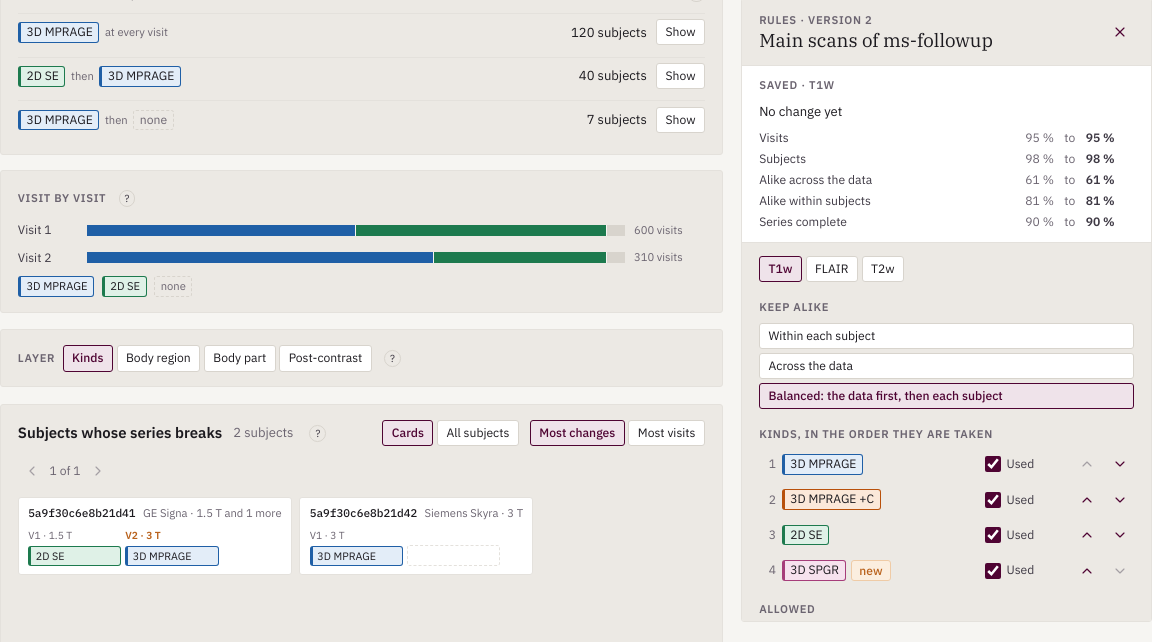
Test: Main scans' layers › says the layer's step has not run on the cohort, and its Run asks the cohort's door and says it is queued
(page scrolled)
Click the button "Body part".
click(240, 358)  # box [204, 345, 276, 372]
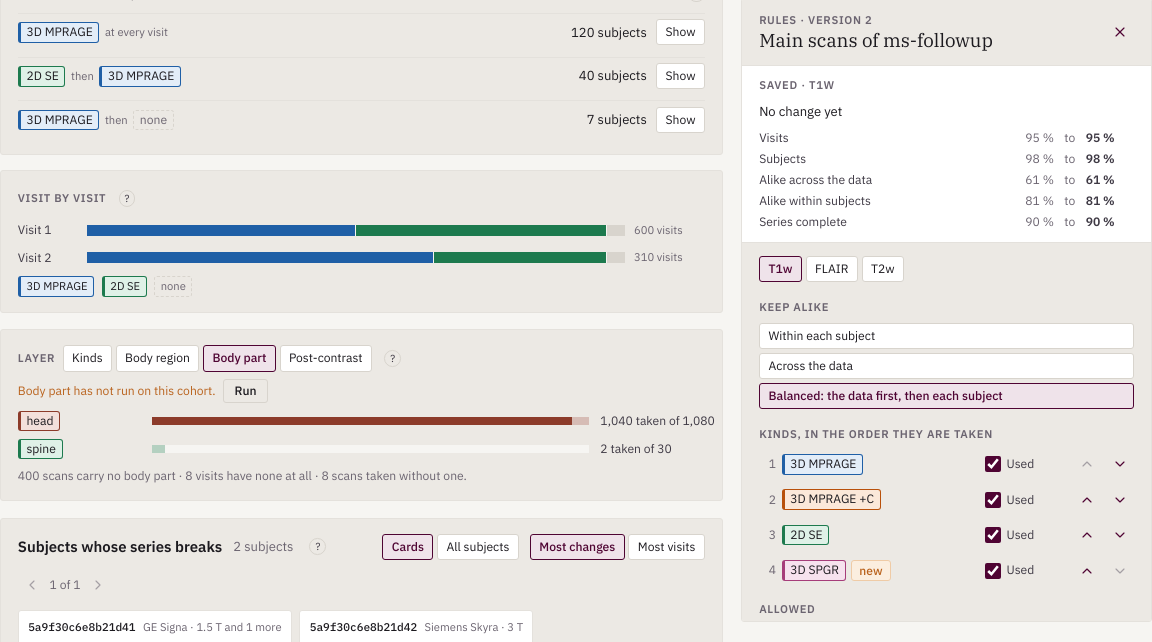
Expected: the text with class "ms-layer-said" reads "Body part has not run on this cohort.", [18, 383, 216, 398]
Click the button "Run".
click(246, 391)  # box [223, 379, 268, 403]
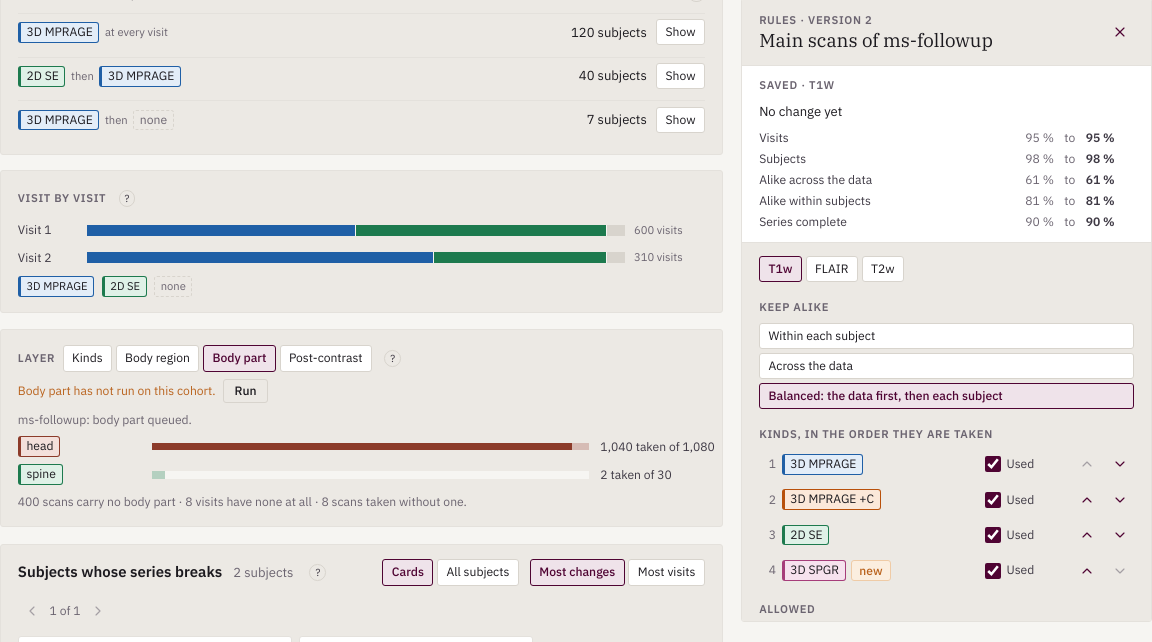
Expected: the message with class "ms-said" reads "ms-followup: body part queued.", [18, 412, 192, 427]
